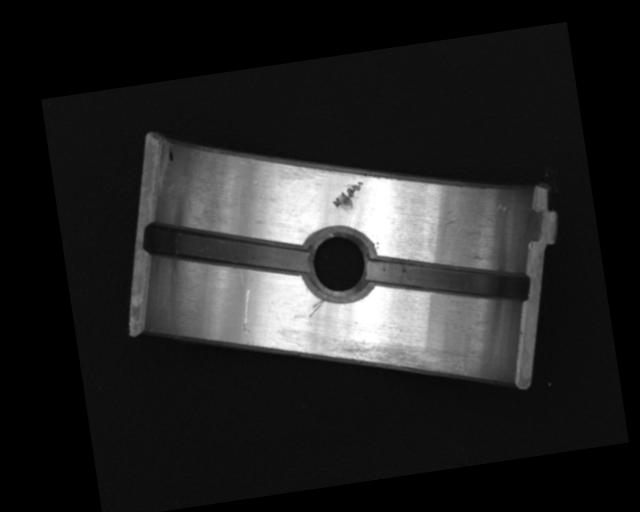blot: (167, 145, 175, 163)
bruise: (330, 181, 368, 214), (437, 216, 458, 229), (496, 201, 510, 213)
gap: (145, 203, 309, 296), (365, 241, 532, 321)
hole: (298, 226, 380, 306)
nick: (237, 288, 259, 347), (306, 300, 327, 317)
scratch: (322, 320, 473, 397)
